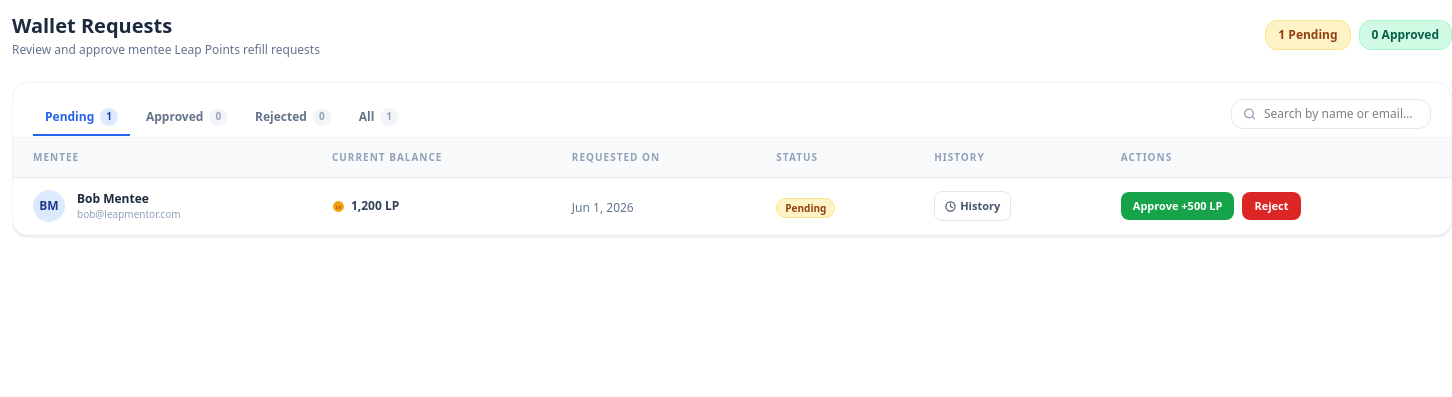
AdminWalletRequests › shows empty state for non-pending tab with no requests
Expected: the text "Bob Mentee" is shown, [77,190,149,206]
Click the button "Rejected 0" at (293, 118), box [243,100,343,136]
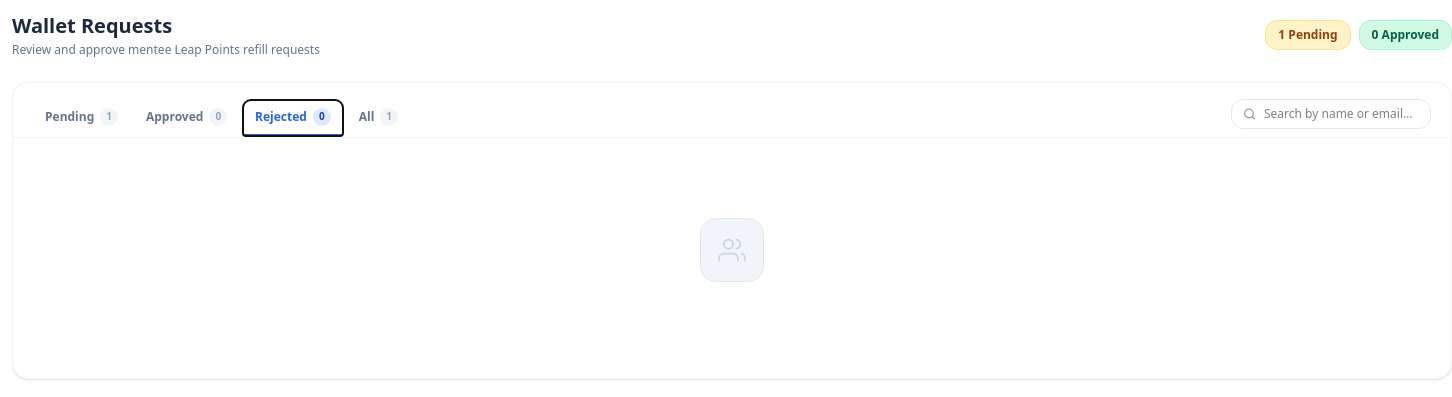
Result: the text "Bob Mentee" is gone
